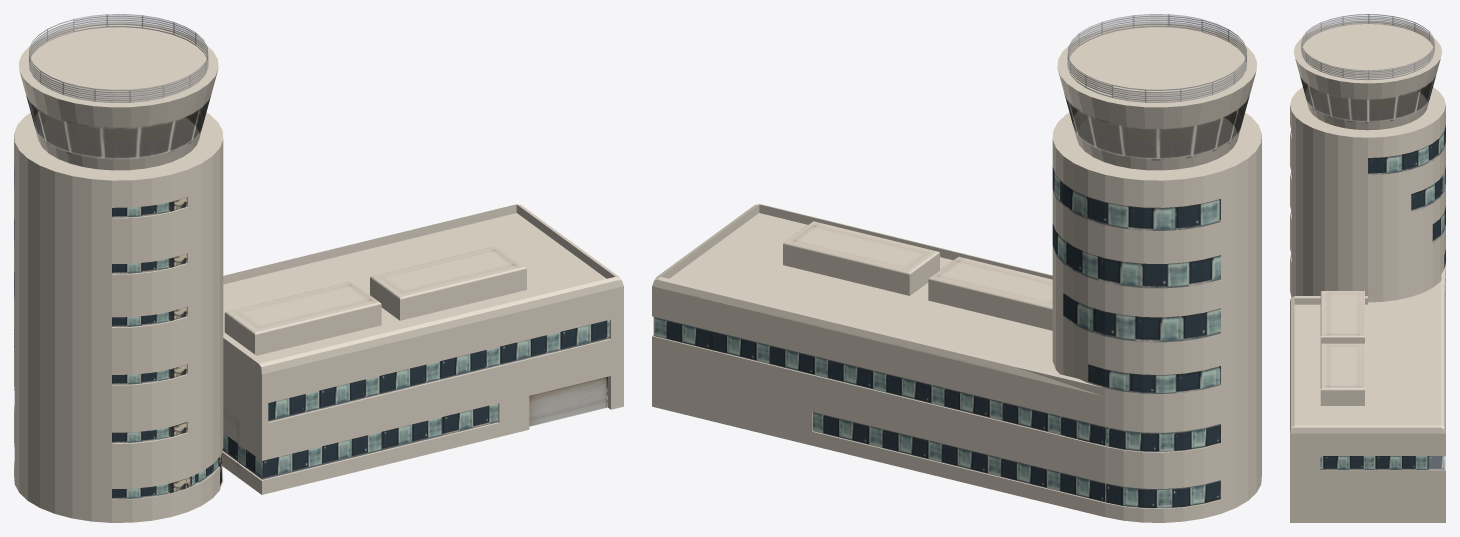
Rendered from tower_EPRZ.glb.
3 views of the same model, side by side, from view 1: azimuth 30°, elevation 25°; view 2: azimuth 150°, elevation 25°; view 3: azimuth 270°, elevation 25° (orthographic). The views are drawn at different scales.
Visible parts, largest first — view 1: tower; view 2: tower; view 3: tower.
Boxes of the visible parts, <box> form: tower: <box>14,14,623,522</box>; tower: <box>652,14,1261,522</box>; tower: <box>1290,14,1445,522</box>.
Bounding box in the file's own units: 51.47 × 38.63 × 17.2.
1 material, 1 textured.
